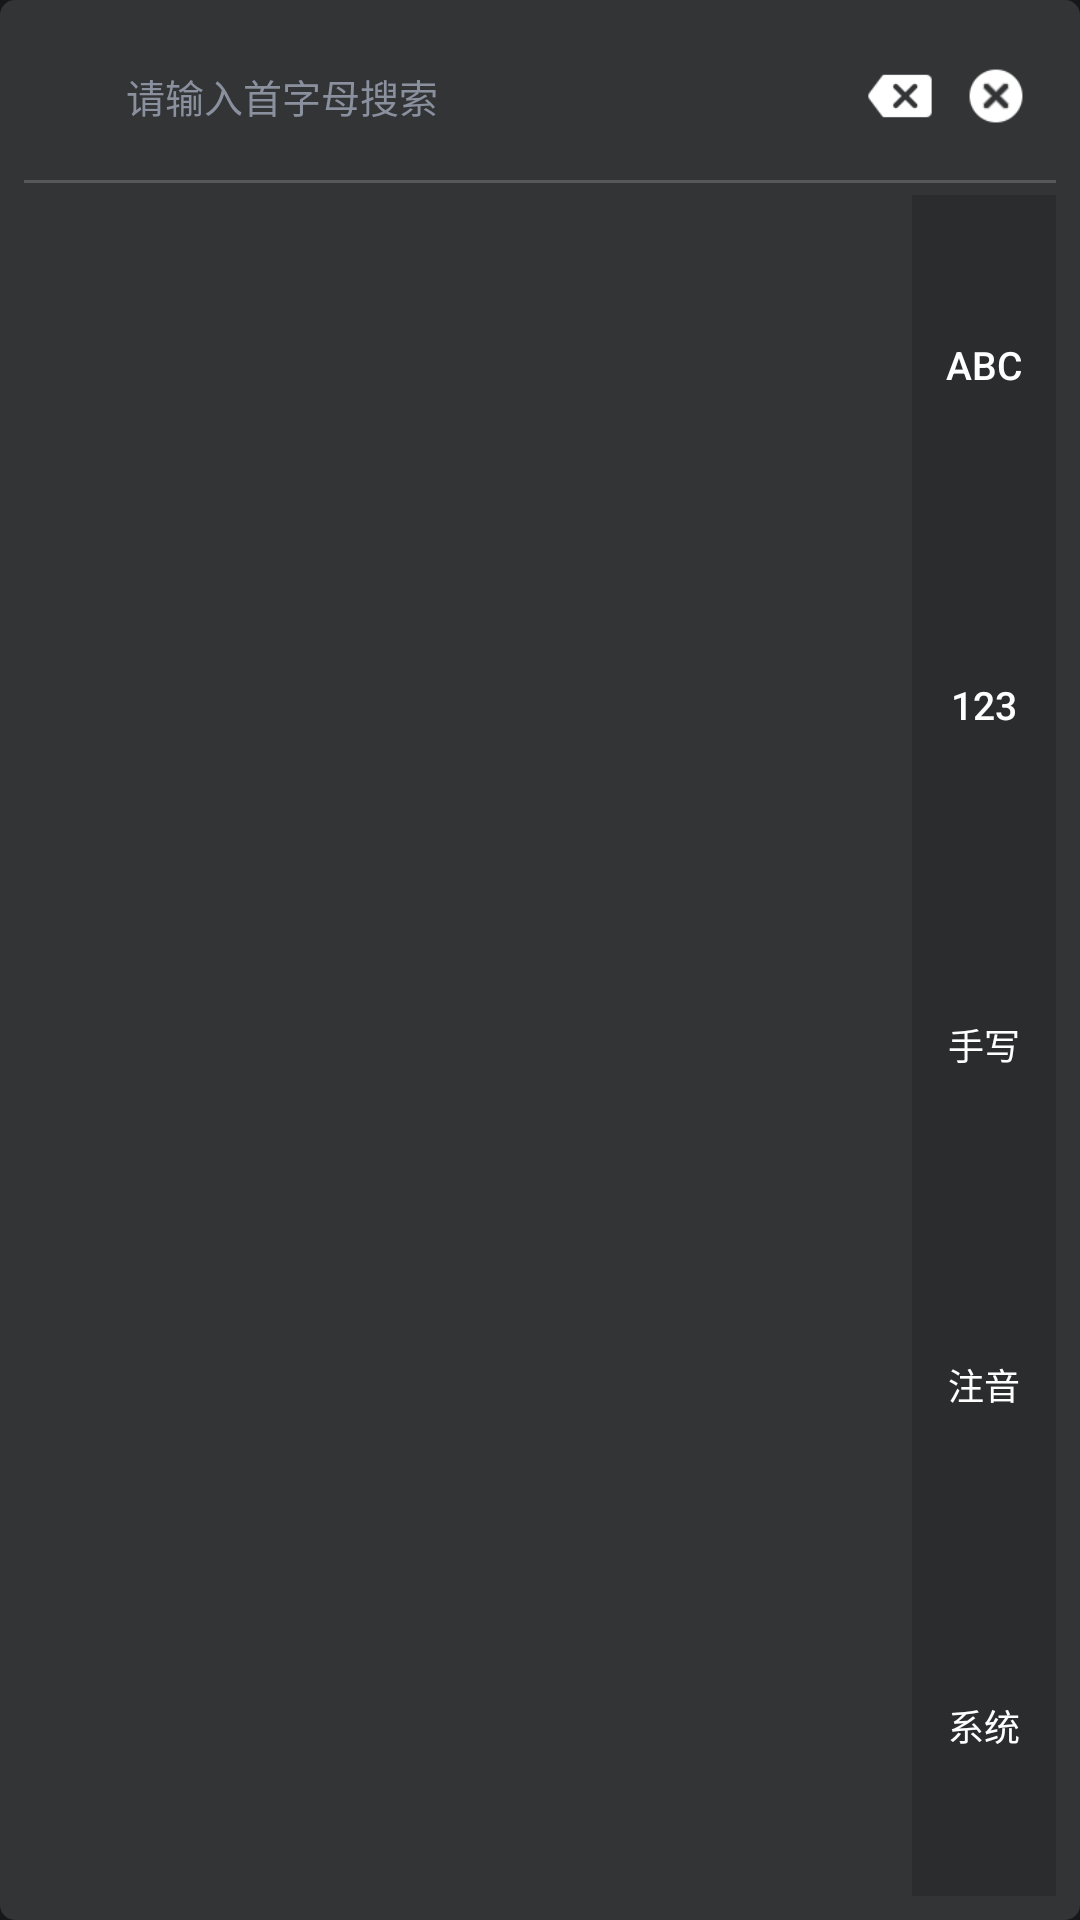

Screen size 1080×1920. Icon name, then its box in pixels as (x1, y1, x2, y2):
清空: (969, 69, 1023, 123)
退格: (868, 74, 932, 118)
